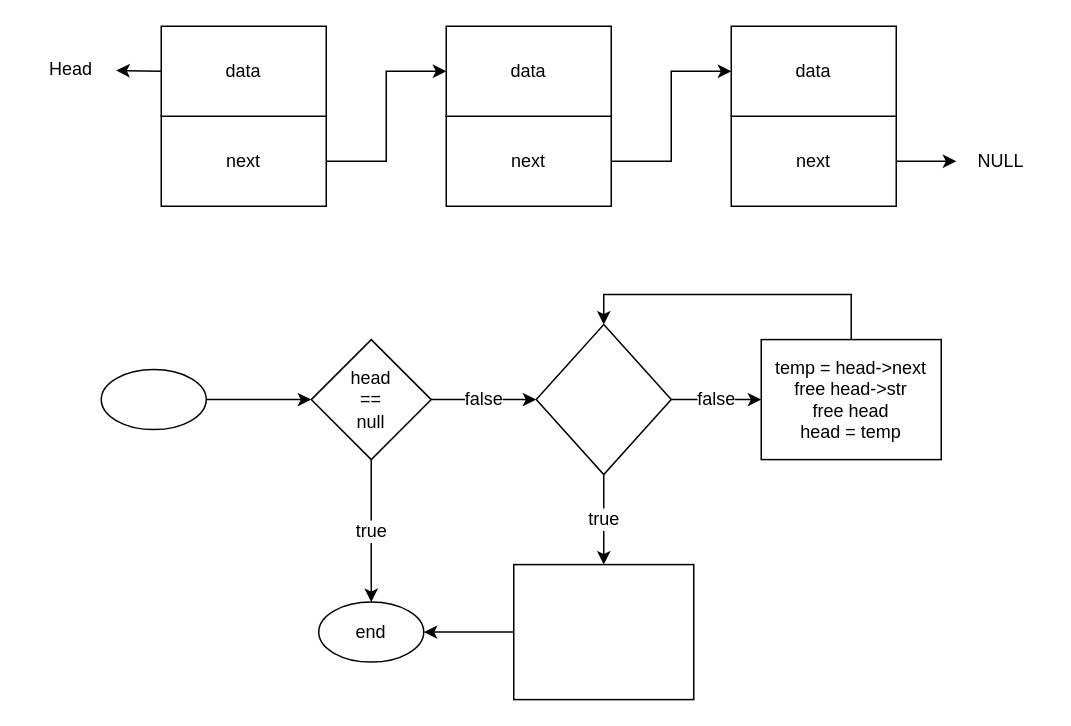
This 1071x726 diagram has some shape labels left out. The centre of each missing label's shape, as x and y in pixels:
free head->str free head head = null: the point at 603,631
head->next == null: the point at 603,399
start: the point at 153,399
